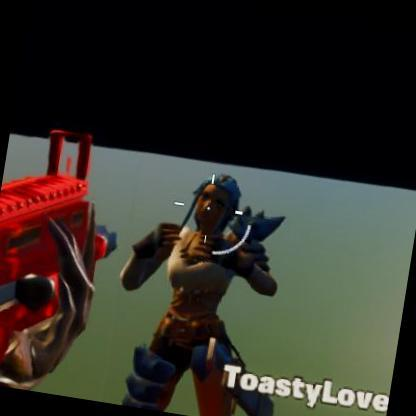person: (96, 158, 297, 416)
